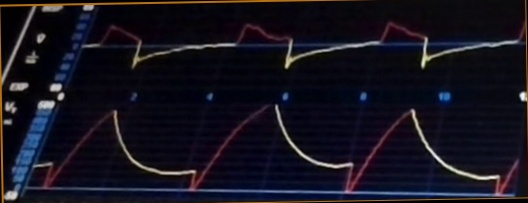Flow: (83, 16, 526, 78)
Leakage Volume: (36, 104, 519, 196)
